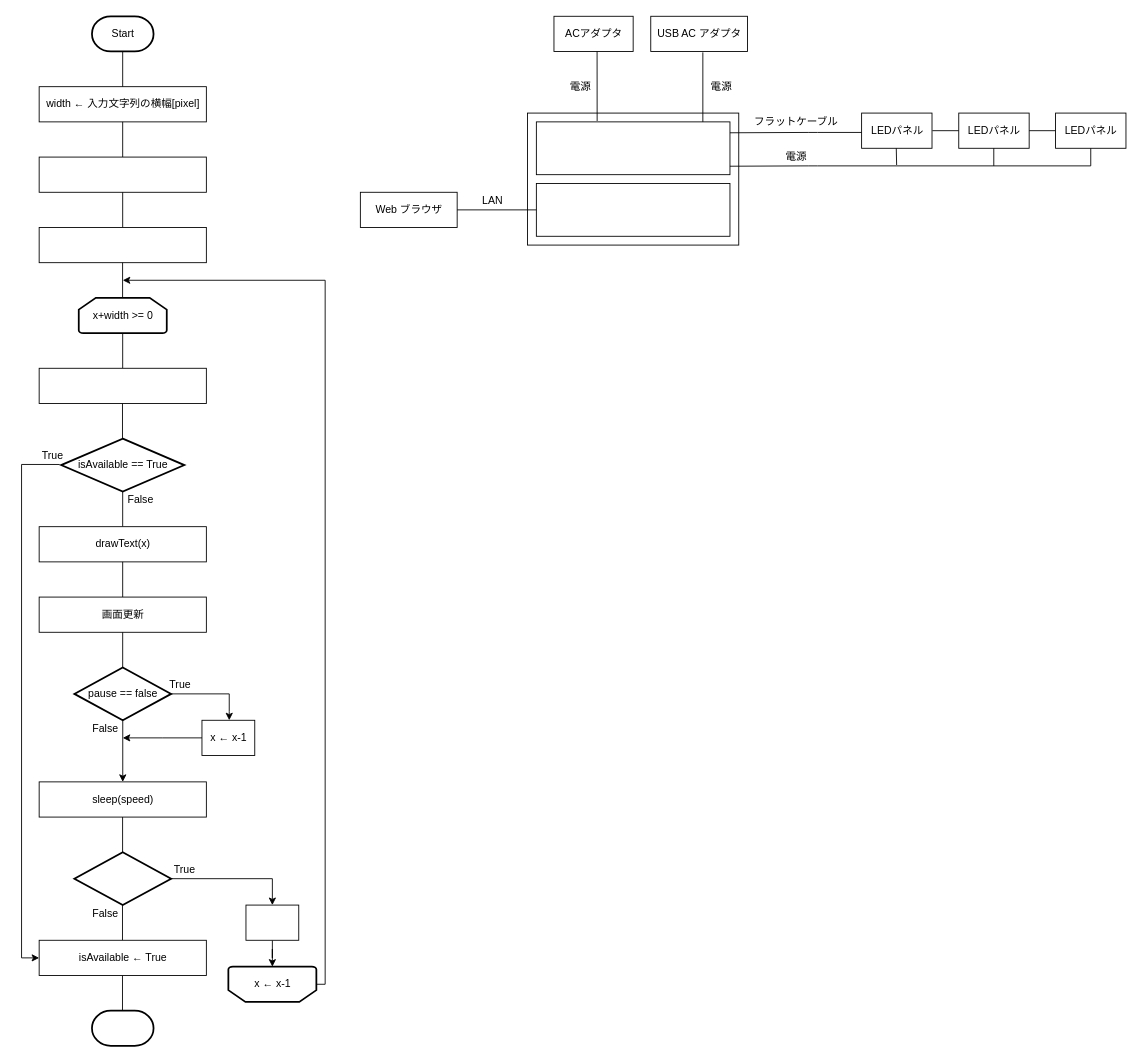
The diagram is 1141 pixels wide and 1061 high, and some of its shapes have lost their labels. Here are the shapes that lost their labels. From the top down, the box of each, then its label:
(535, 121, 730, 175): RGB Matrix HAT RTC for Raspberry Pi
(38, 156, 206, 192): DBに履歴登録
(535, 183, 730, 236): Raspberry Pi 3 Model B Rev 1.2
(38, 227, 206, 263): isAvailable ← false
(38, 367, 206, 403): 画面初期化
(73, 851, 172, 906): x+width < 0
(245, 904, 299, 940): x ← xorg
(91, 1009, 154, 1046): End
